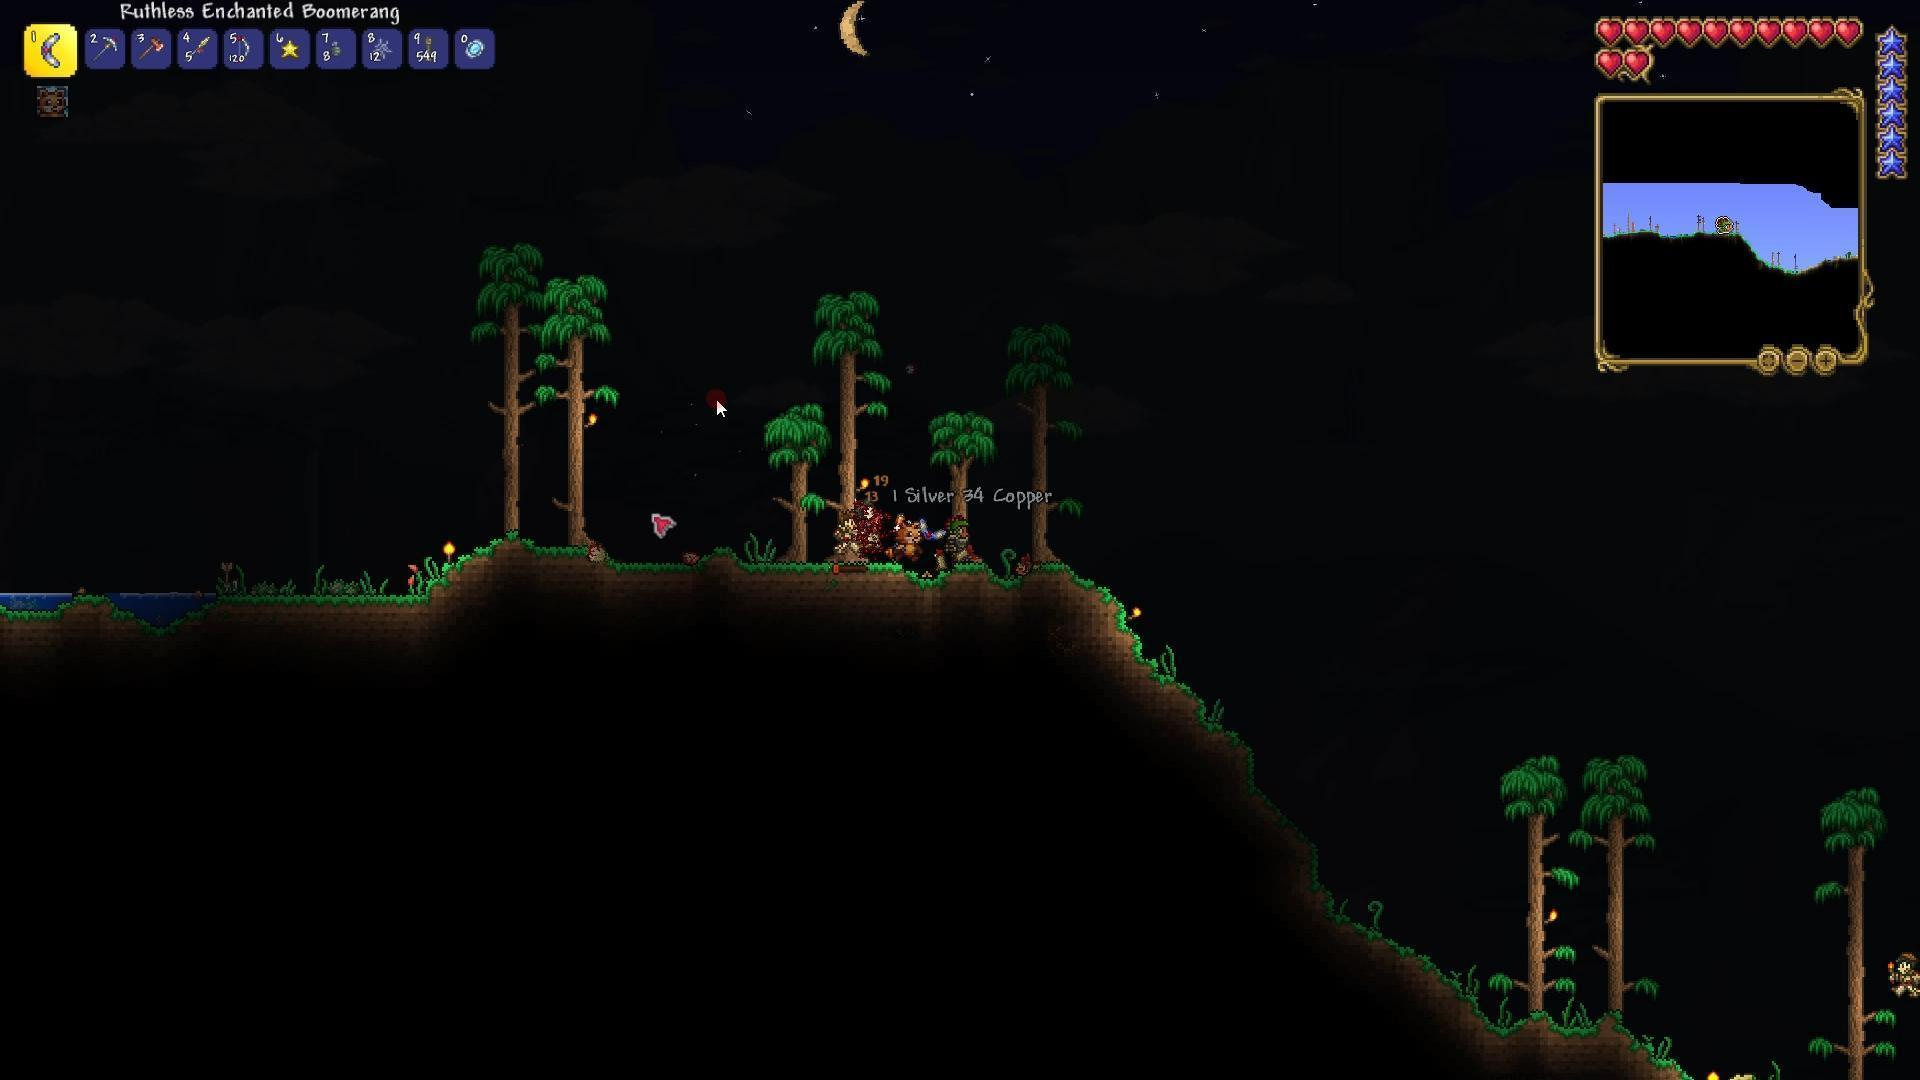cobwebI: (373, 38, 394, 61)
torchT: (1542, 907, 1577, 940), (435, 538, 467, 568), (1121, 604, 1150, 626)
tree: (1800, 760, 1903, 1080), (473, 228, 560, 562), (1573, 742, 1663, 1035), (1497, 740, 1578, 1029), (920, 392, 1005, 589), (760, 393, 829, 579)
zombie: (1878, 945, 1920, 998)
